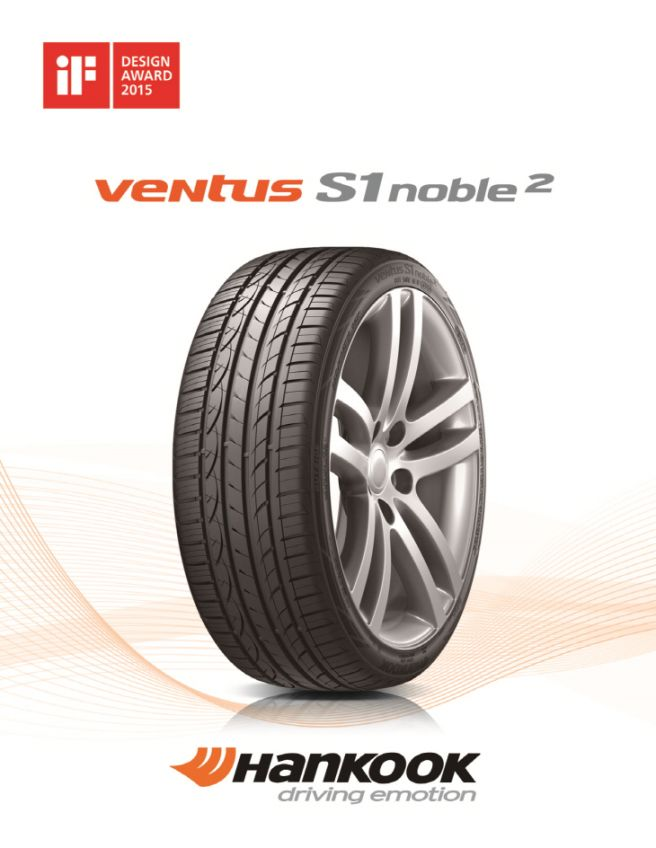new_condition: (162, 245, 358, 709)
